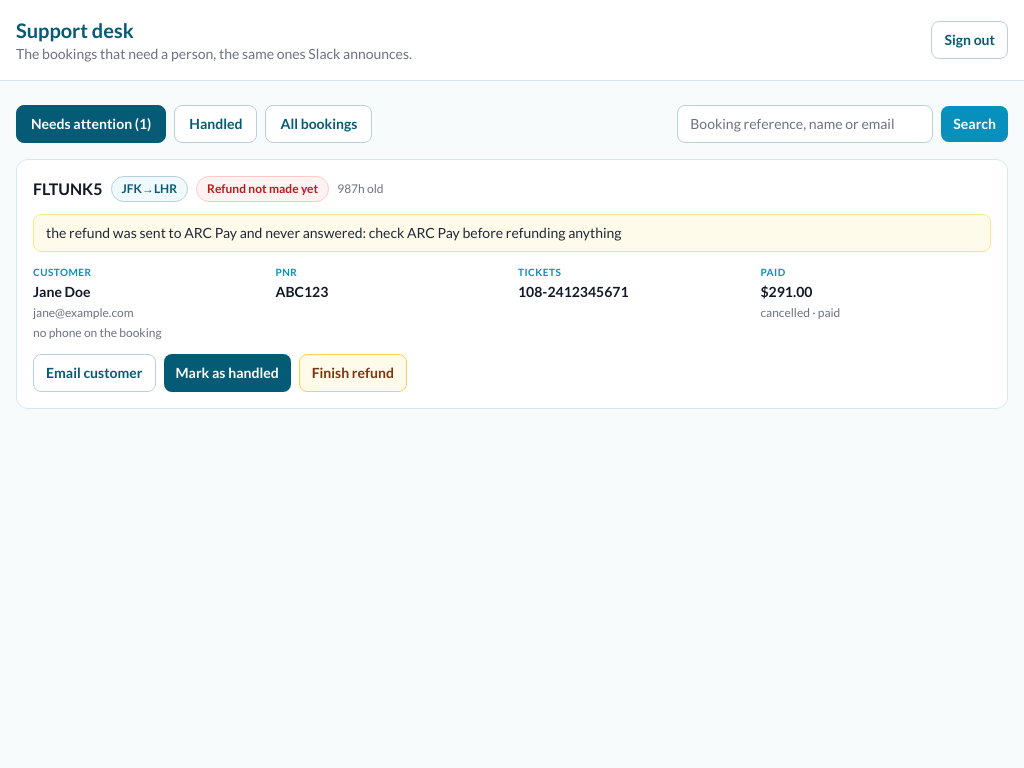
Scenario: the desk › fills in nothing until Check ARC Pay has run, and names the decided amount, the fee it keeps and the check
The width and height of the screenshot is (1024, 768).
Click the button "Finish refund" at (353, 373), box x1=299 y1=354 x2=407 y2=392
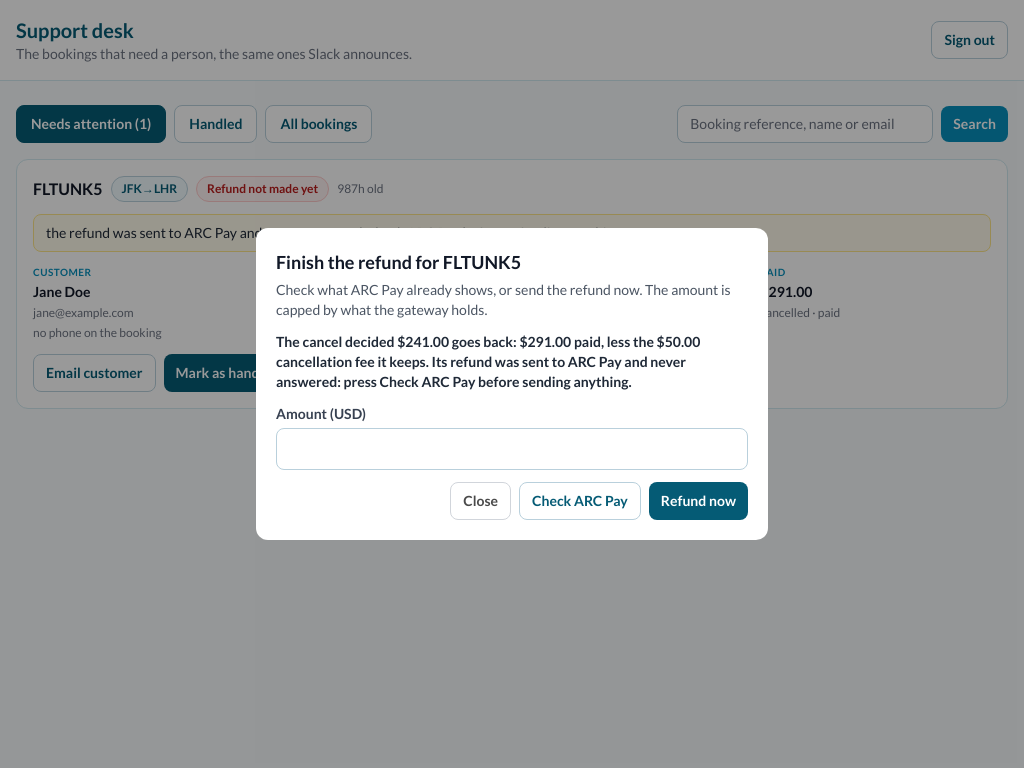
Result: the dialog shows "$241.00" at x1=276 y1=333 x2=700 y2=390
Result: the dialog shows "$50.00 cancellation fee" at x1=276 y1=333 x2=700 y2=390
Result: the dialog shows "never answered" at x1=276 y1=333 x2=700 y2=390
